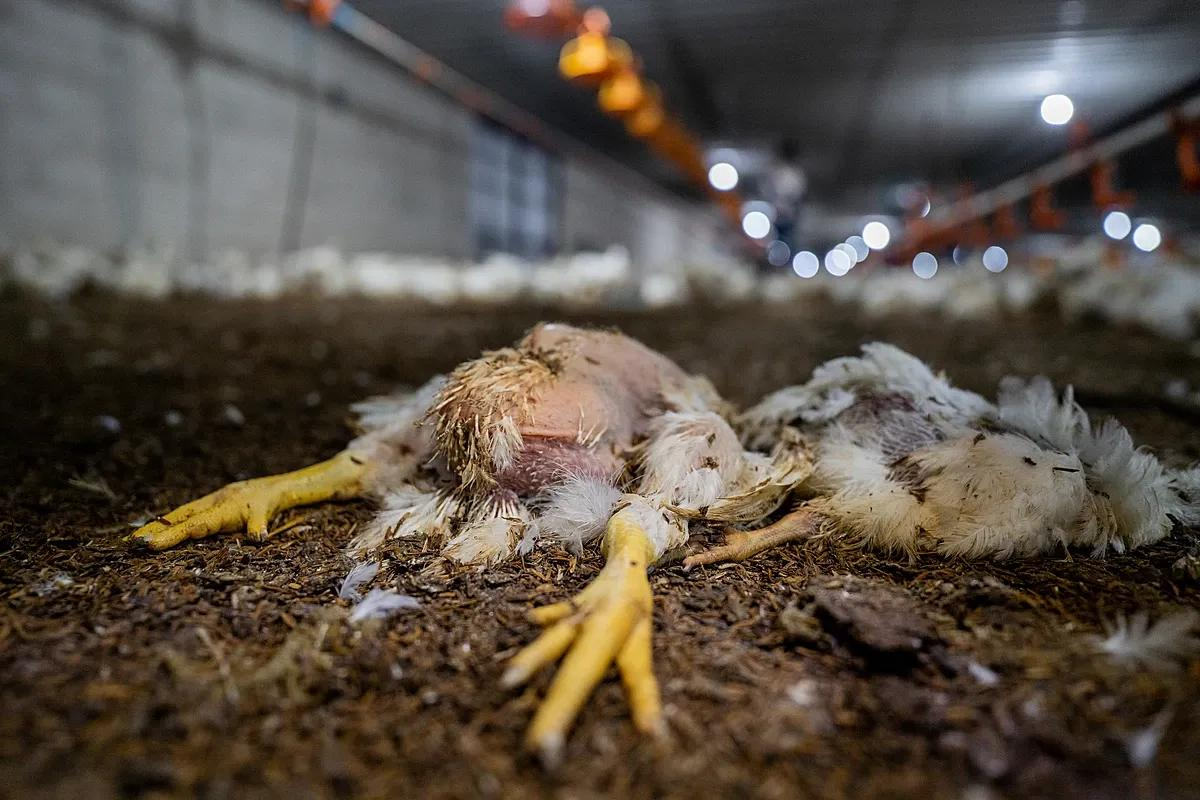AbNormal: (130, 276, 762, 800), (716, 234, 1196, 592)
